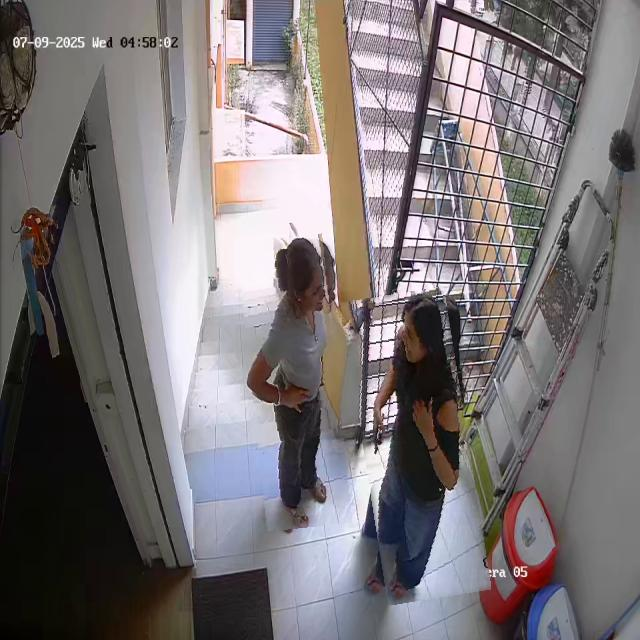person: (351, 289, 480, 602), (245, 235, 345, 530)
